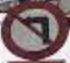Cam re: (1, 2, 68, 58)
